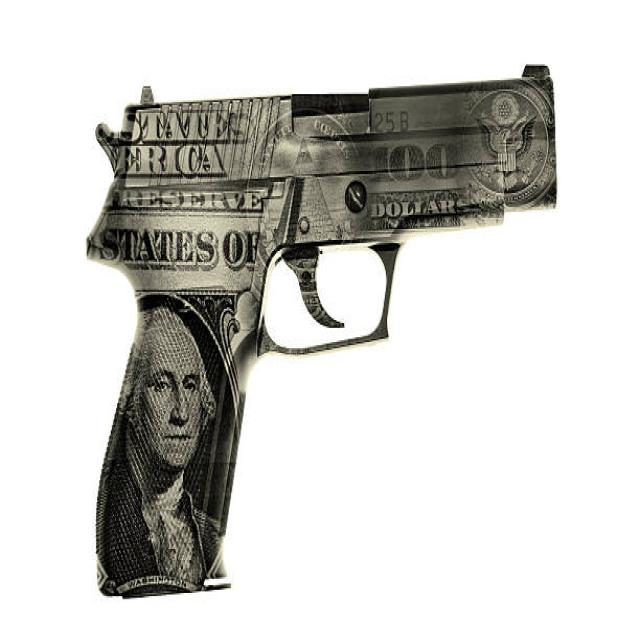pistol: (79, 50, 570, 610)
